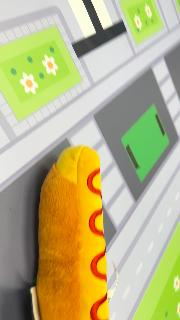hotdog: (36, 145, 110, 319)
